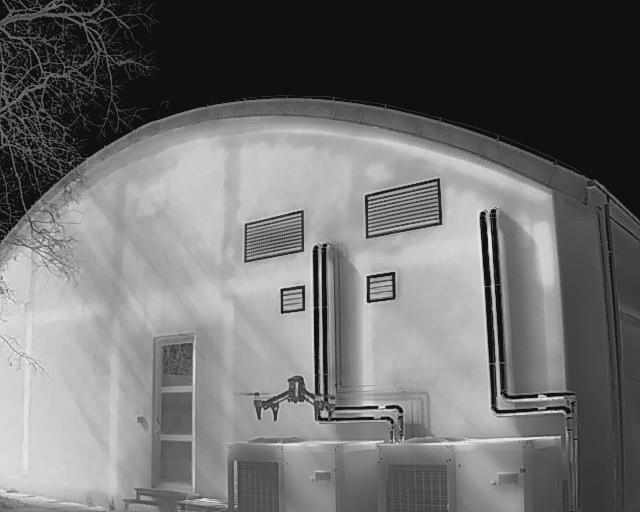drone: (237, 372, 362, 423)
